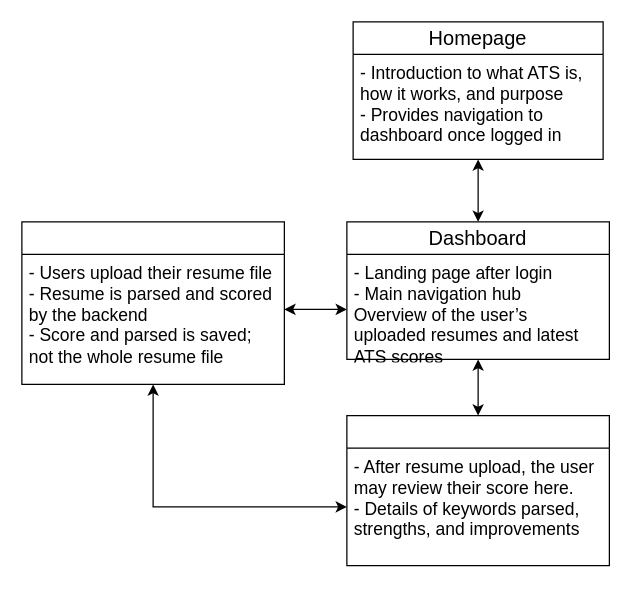
The diagram is 631 pixels wide and 591 high, and some of its shapes have lost their labels. Here are the shapes that lost their labels. From the top down, the box of each, then its label:
(21, 221, 284, 384): Resume Upload
(346, 414, 609, 566): Feedback and Score
